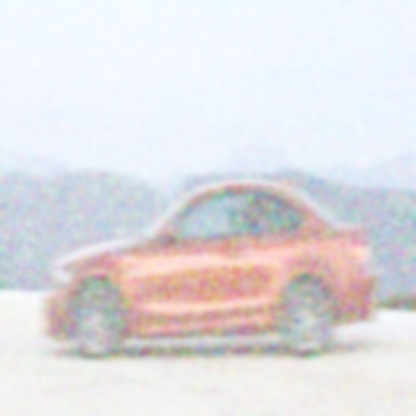Vehicle: (41, 176, 380, 366)
